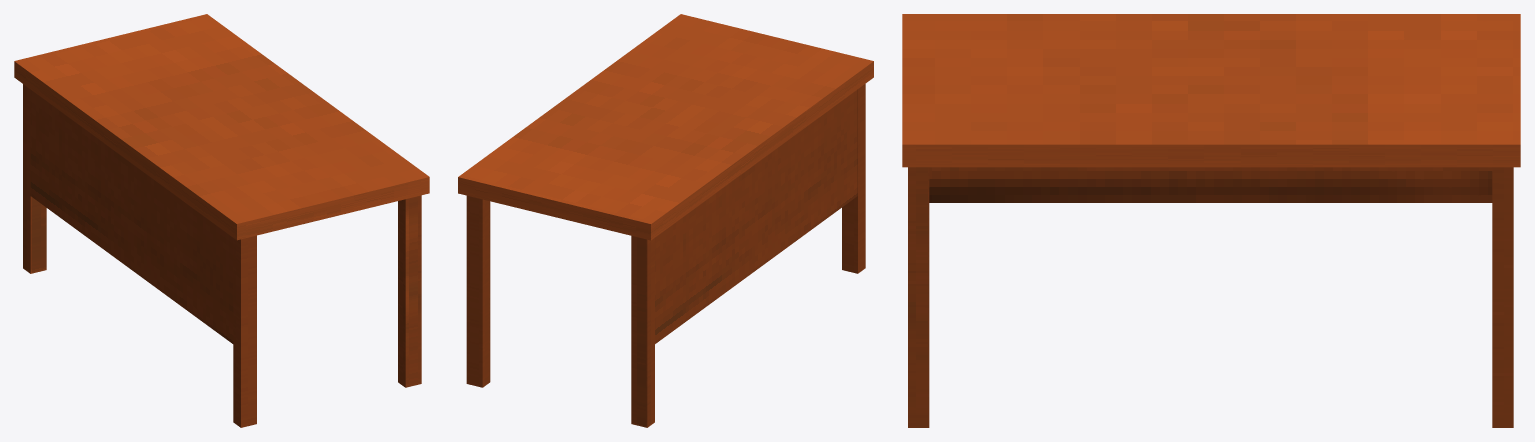
File: table.glb
3 renders of one model, left to right at view 1: azimuth 30°, elevation 25°; view 2: azimuth 150°, elevation 25°; view 3: azimuth 270°, elevation 25°, orthographic. The views are drawn at different scales.
Visible parts, largest first — view 1: Cube; view 2: Cube; view 3: Cube.
Part boxes in pixels (x1,y1,x2,y2): Cube: (14,14,429,427); Cube: (458,14,873,427); Cube: (902,14,1520,427).
Bounding box in the file's own units: 1.67 × 1.72 × 3.34.
1 material, 1 textured.
